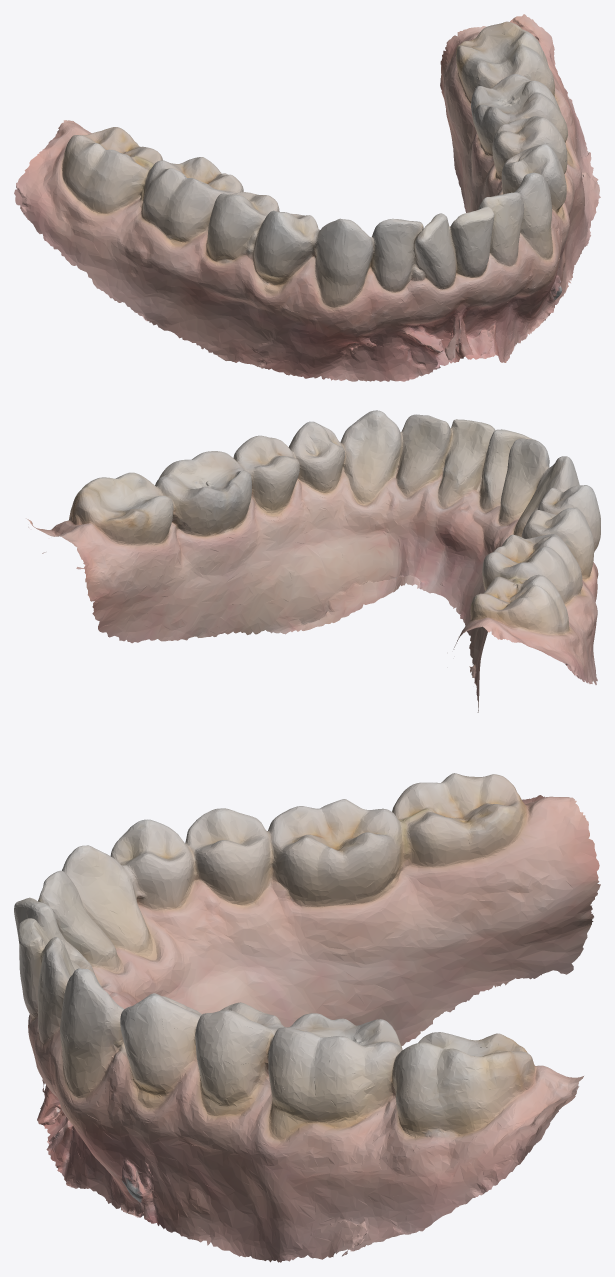
File: unterkiefer.glb
3 views of the same model, one above another, from view 1: azimuth 30°, elevation 25°; view 2: azimuth 150°, elevation 25°; view 3: azimuth 270°, elevation 25° (orthographic). The views are drawn at different scales.
Parts seen in each view (by area): view 1: unterkiefer; view 2: unterkiefer; view 3: unterkiefer.
Boxes of the visible parts, x1,y1,x2,y2 form: unterkiefer: (14, 14, 600, 381); unterkiefer: (26, 410, 600, 712); unterkiefer: (14, 773, 600, 1262).
Bounding box in the file's own units: 0.0733 × 0.0232 × 0.0509.
